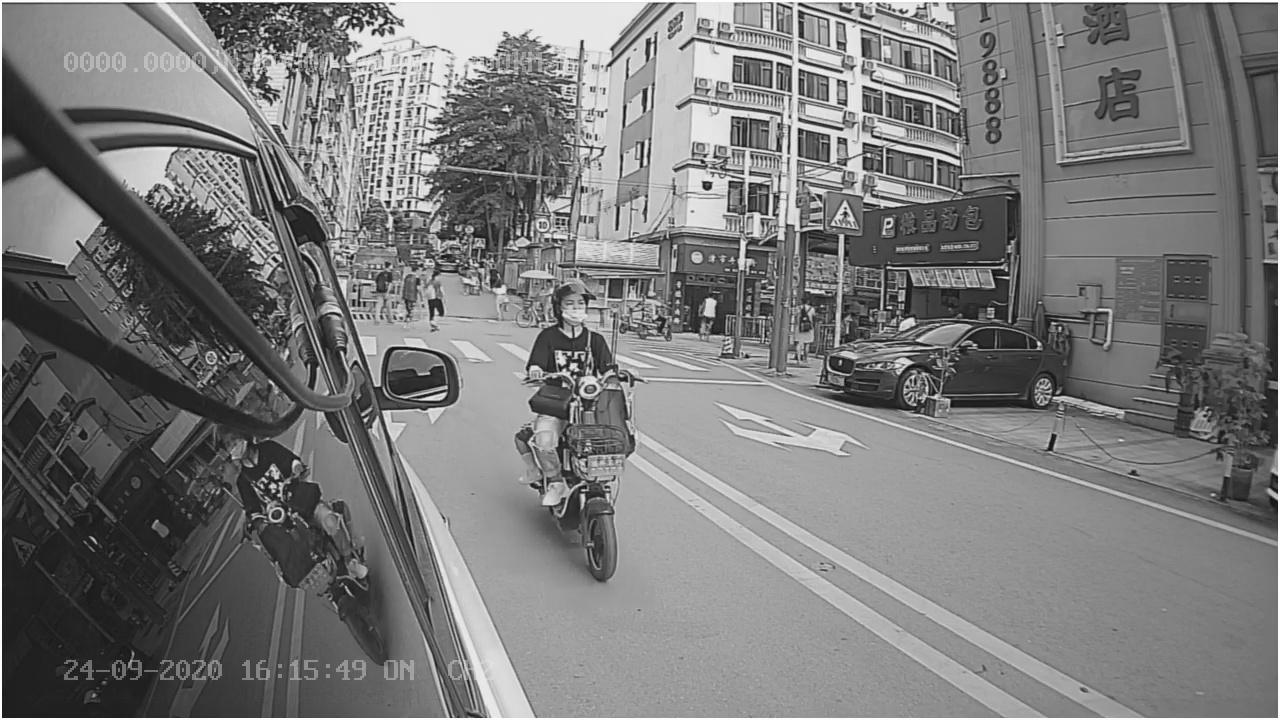person: (494, 271, 639, 578)
